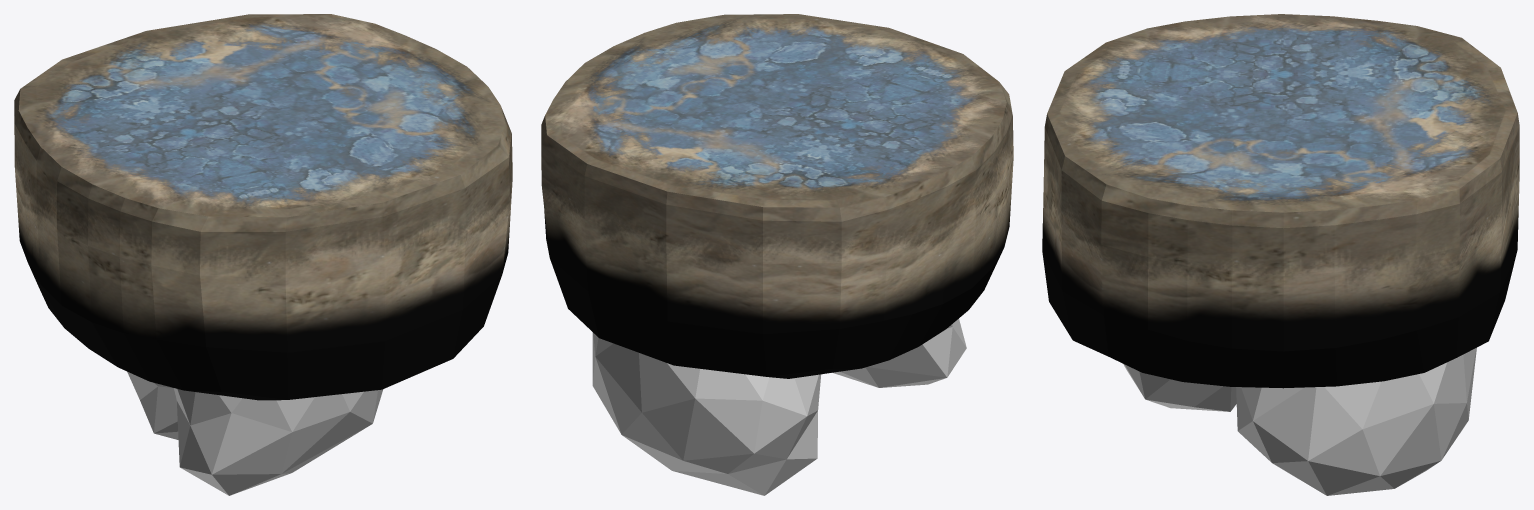
The model's file is Ground 4.fbx.
3 views of the same model, side by side, from view 1: azimuth 30°, elevation 25°; view 2: azimuth 150°, elevation 25°; view 3: azimuth 270°, elevation 25° (orthographic). The views are drawn at different scales.
Parts seen in each view (by area): view 1: Ground4, Under4; view 2: Ground4, Under4; view 3: Ground4, Under4.
Boxes of the visible parts, x1,y1,x2,y2 form: Ground4: (14,14,512,400); Under4: (127,372,383,495); Ground4: (541,14,1013,378); Under4: (592,319,966,495); Ground4: (1042,14,1519,388); Under4: (1123,347,1476,495).
Bounding box in the file's own units: 17.43 × 14.17 × 17.32.
